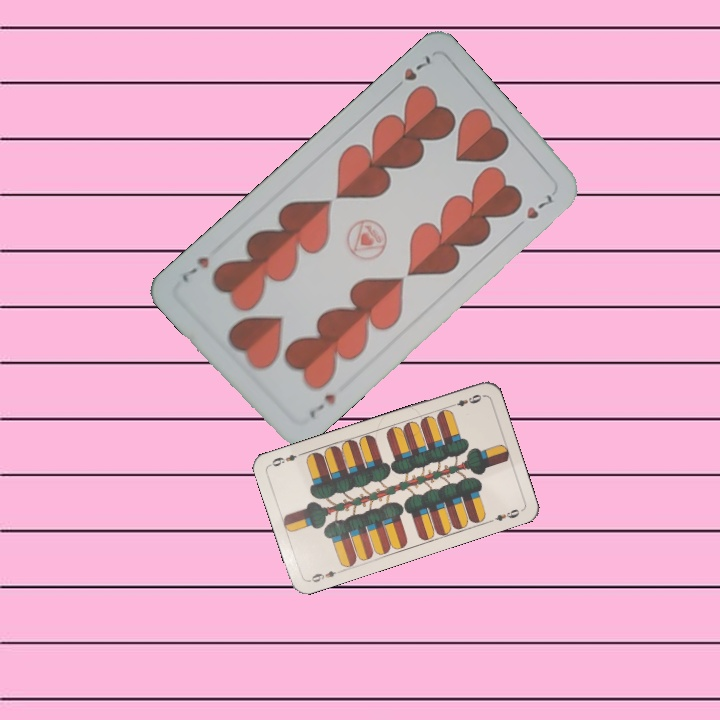E9: (446, 390, 484, 410), (305, 566, 345, 585)
H7: (400, 51, 434, 84), (305, 389, 338, 421)
